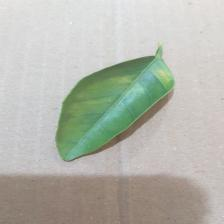healthy: (51, 41, 183, 162)
